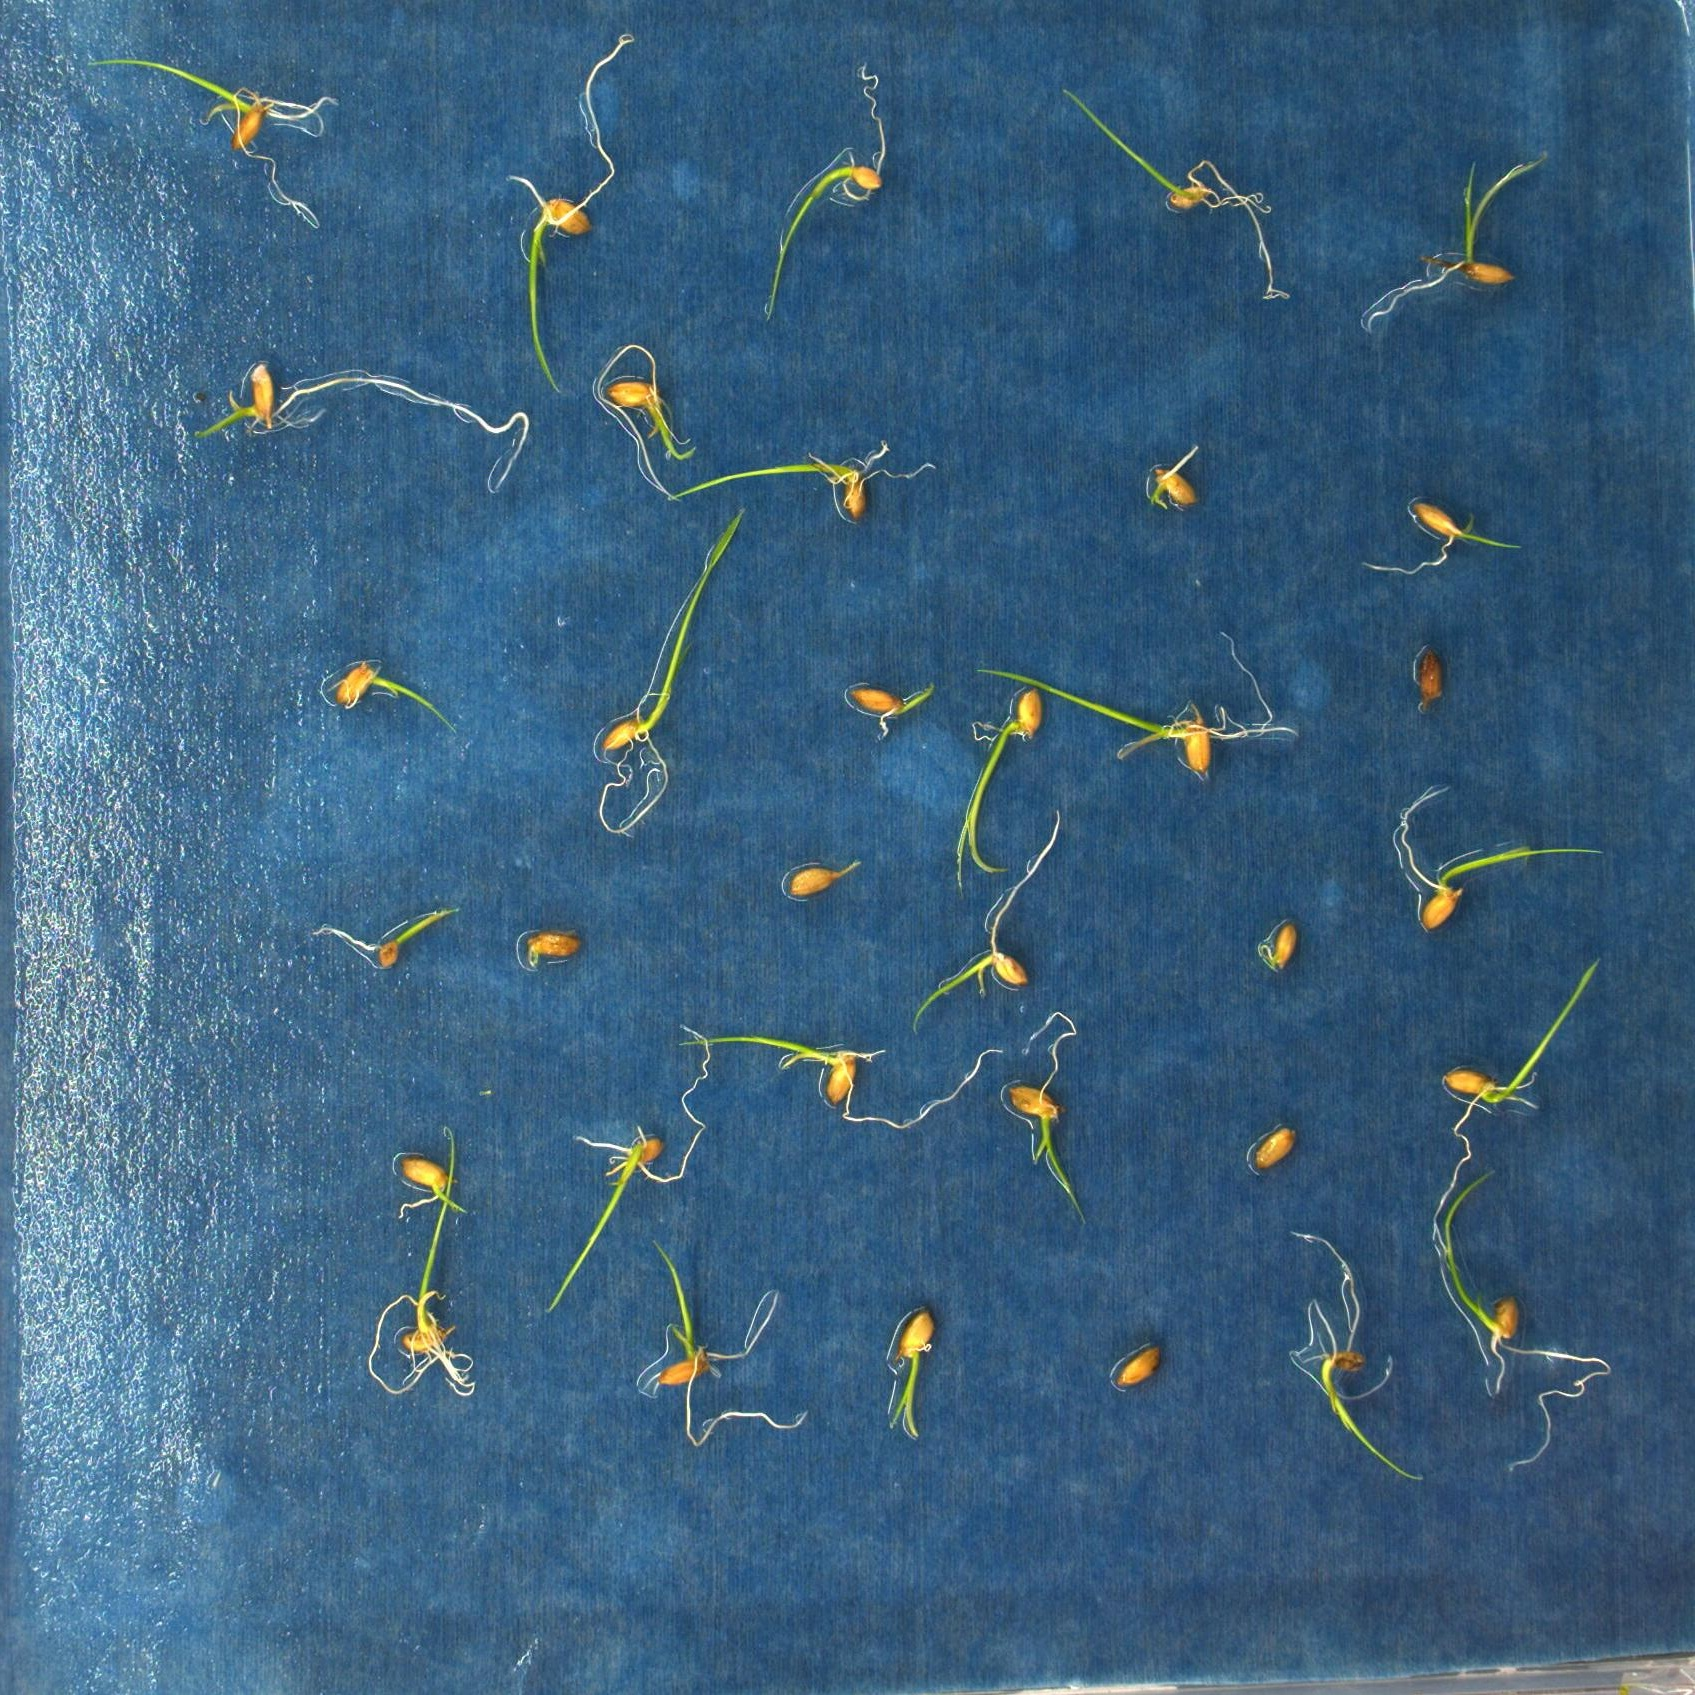not sprout: (1138, 432, 1215, 532), (511, 920, 593, 979), (778, 854, 869, 900), (1406, 641, 1453, 712), (1260, 914, 1305, 981), (1240, 1125, 1304, 1172), (1104, 1336, 1156, 1391)
sprout: (1416, 1172, 1613, 1481), (1049, 98, 1281, 349), (542, 1014, 717, 1327), (192, 335, 539, 489), (590, 511, 747, 849), (976, 640, 1315, 789), (500, 29, 632, 390), (84, 65, 341, 247), (1430, 947, 1593, 1220), (615, 1253, 823, 1461), (1270, 1212, 1426, 1478), (900, 806, 1083, 1024), (1391, 771, 1617, 934), (680, 1023, 1009, 1135), (761, 61, 906, 309), (365, 1127, 490, 1405), (1377, 154, 1546, 352), (941, 677, 1059, 905), (675, 438, 938, 534), (1004, 1010, 1088, 1229), (587, 338, 692, 497), (1358, 489, 1530, 577), (306, 640, 456, 730), (296, 903, 456, 983), (872, 1301, 945, 1444), (830, 671, 938, 740), (386, 1147, 469, 1232)
